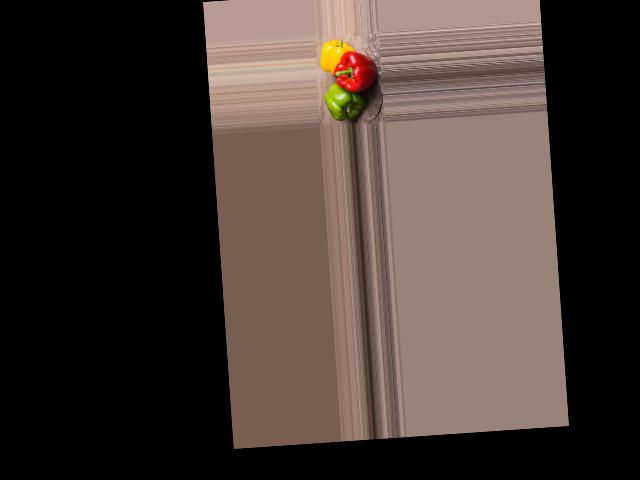bell_pepper: (317, 38, 355, 73)
